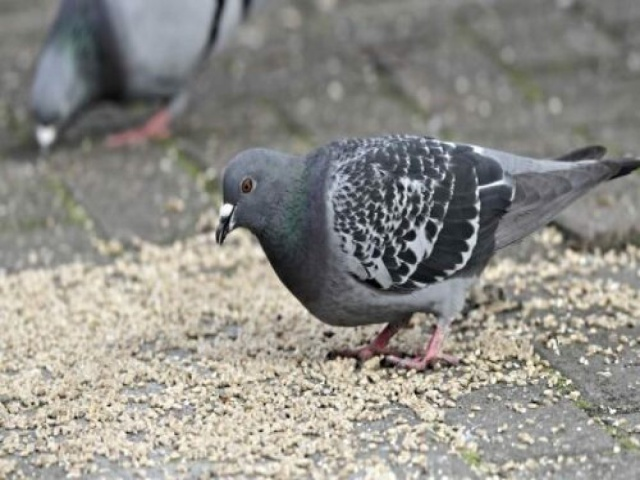Pigeon: (212, 126, 640, 383)
